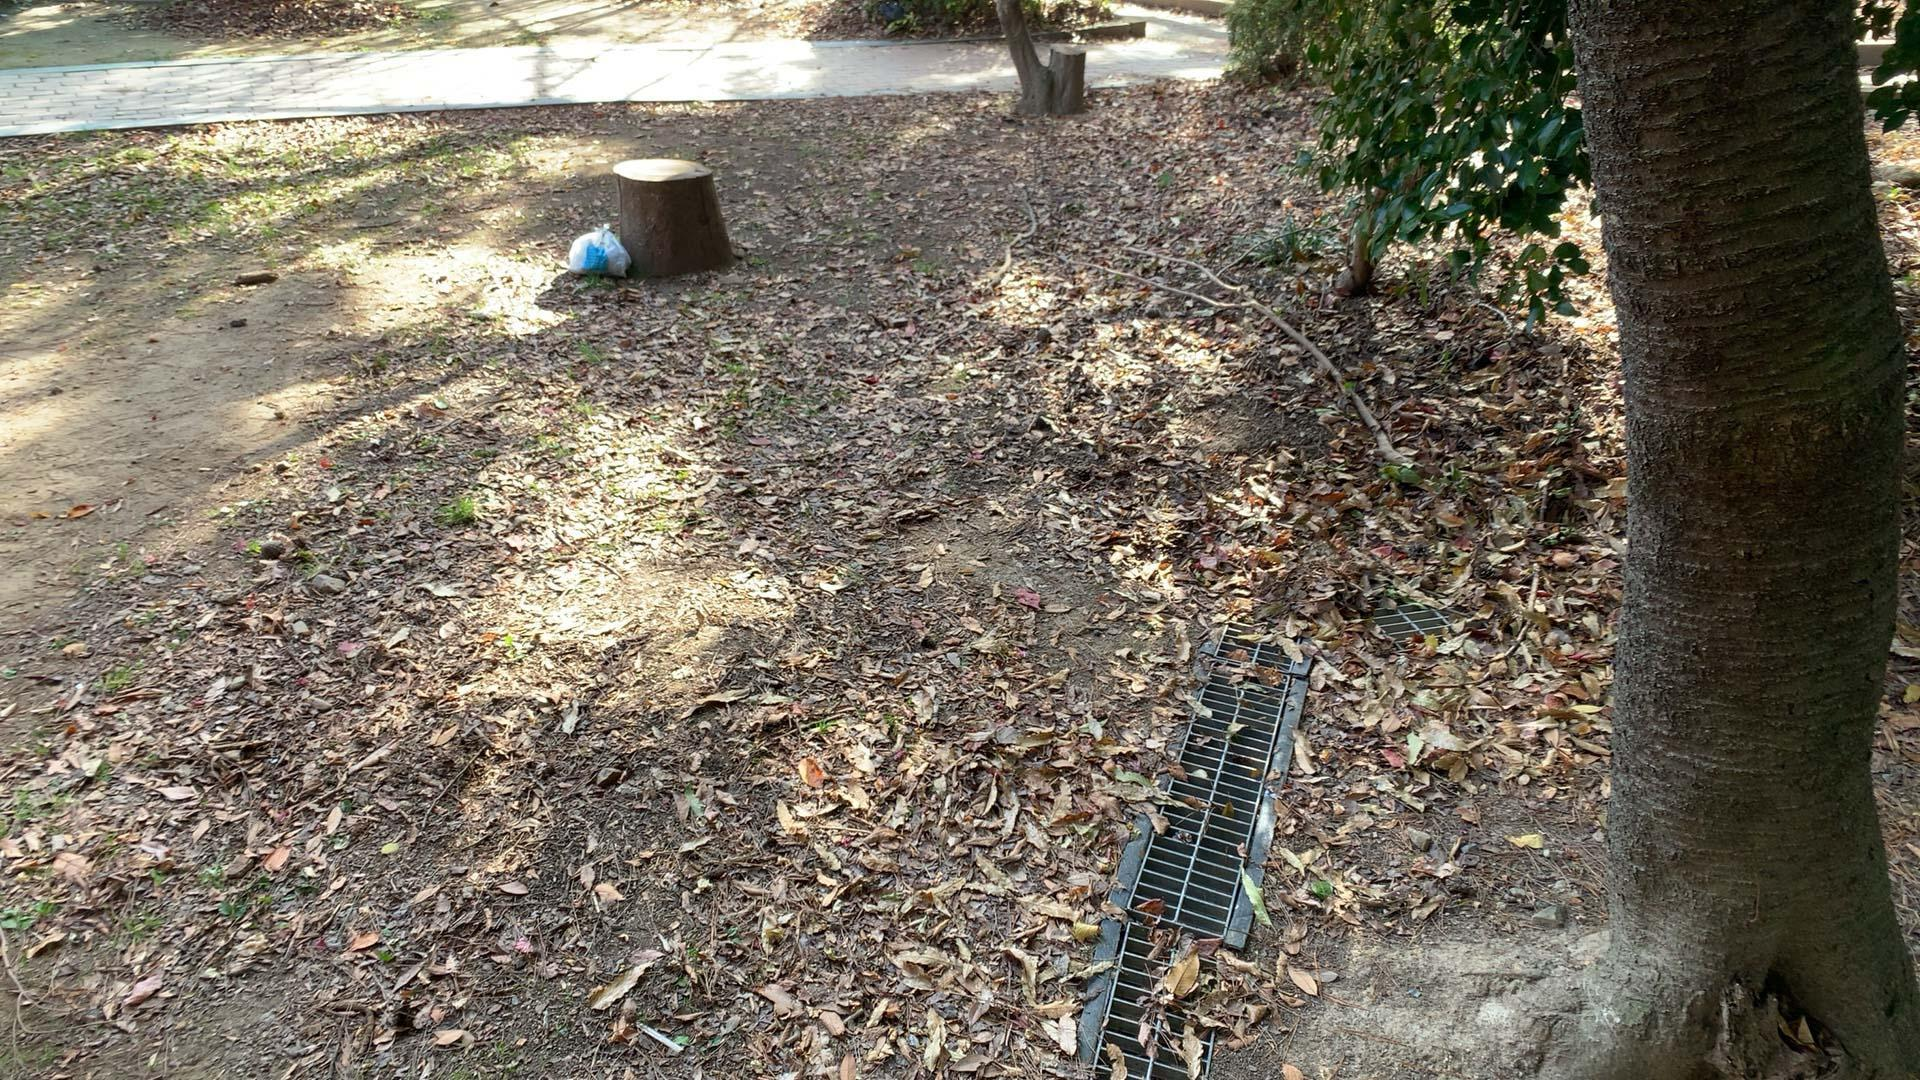white_bag: (563, 220, 637, 281)
